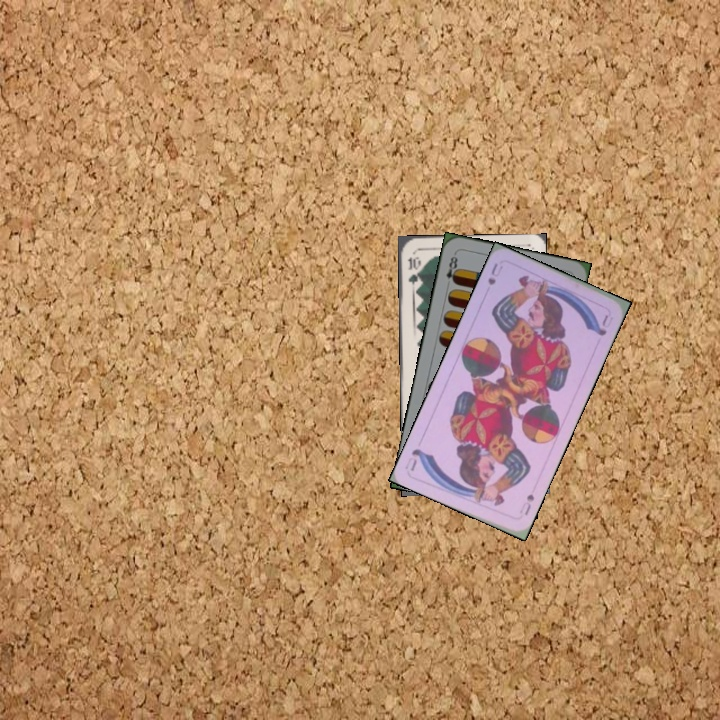E8: (442, 250, 461, 286)
G10: (404, 252, 421, 291)
SU: (515, 490, 537, 518), (484, 259, 505, 288)
